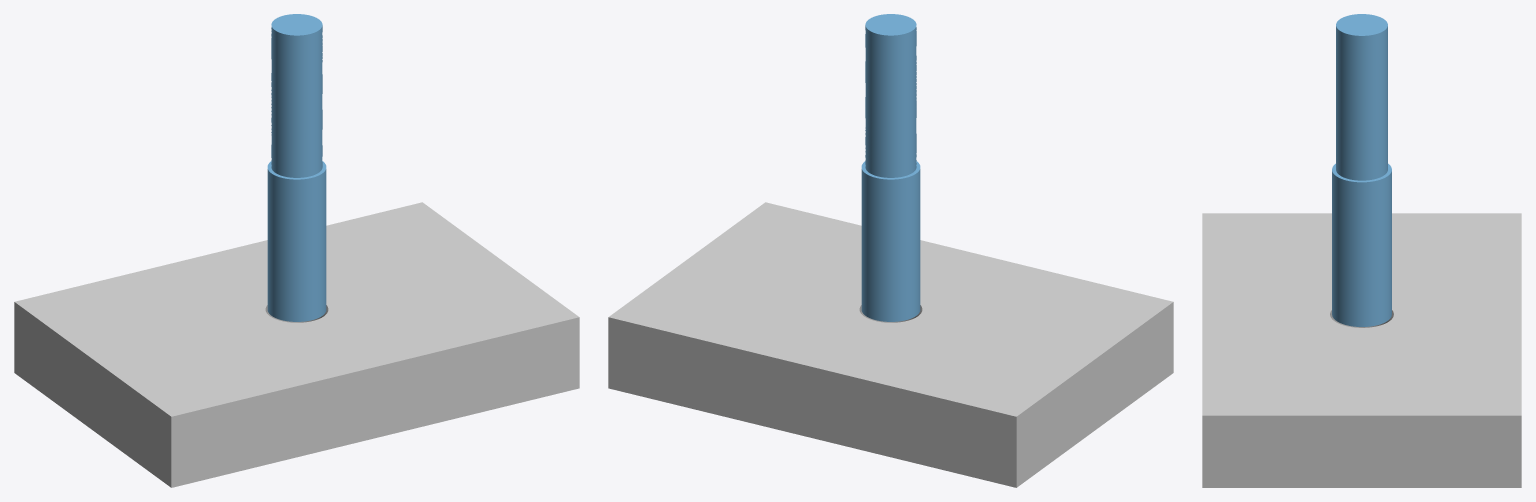
The model's file is delikli_plaka_ve_yivli_pim.gltf.
3 views of the same model, side by side, from view 1: azimuth 30°, elevation 25°; view 2: azimuth 150°, elevation 25°; view 3: azimuth 270°, elevation 25° (orthographic).
Visible parts, largest first — view 1: plaka_part, pim_part; view 2: plaka_part, pim_part; view 3: plaka_part, pim_part.
Part boxes in pixels (box(x1,y1,x2,y2)): plaka_part: box(14, 202, 579, 487); pim_part: box(267, 14, 326, 321); plaka_part: box(608, 202, 1173, 487); pim_part: box(861, 14, 920, 321); plaka_part: box(1202, 213, 1521, 487); pim_part: box(1332, 14, 1391, 326).
Size of the model in its own units: 60 by 50 by 40.
